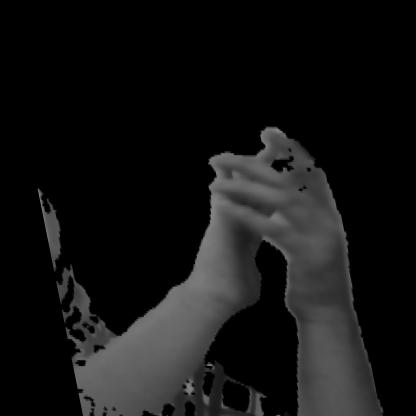clap: (151, 110, 375, 364)
